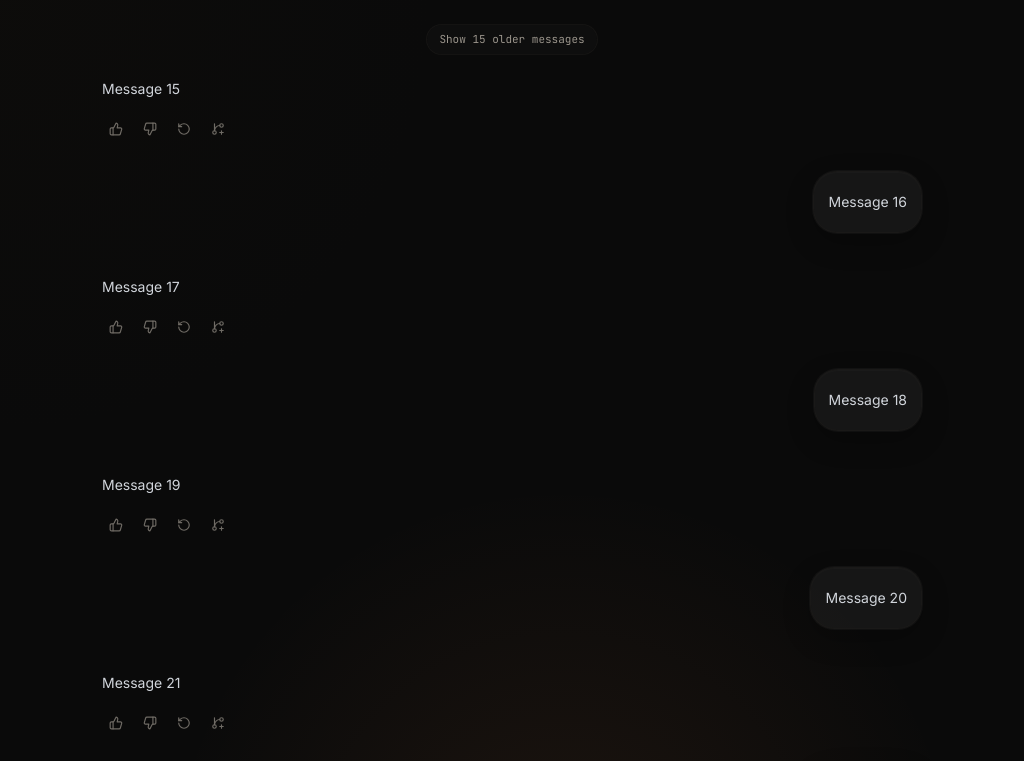
Scenario: MessageFeed scroll behavior › virtualizes long conversations and loads older blocks on demand
The width and height of the screenshot is (1024, 761).
Expected: the text "Message 0" is not shown
Step 1. Click the button "Show 15 older messages" → (512, 39), box [426,24,598,54]
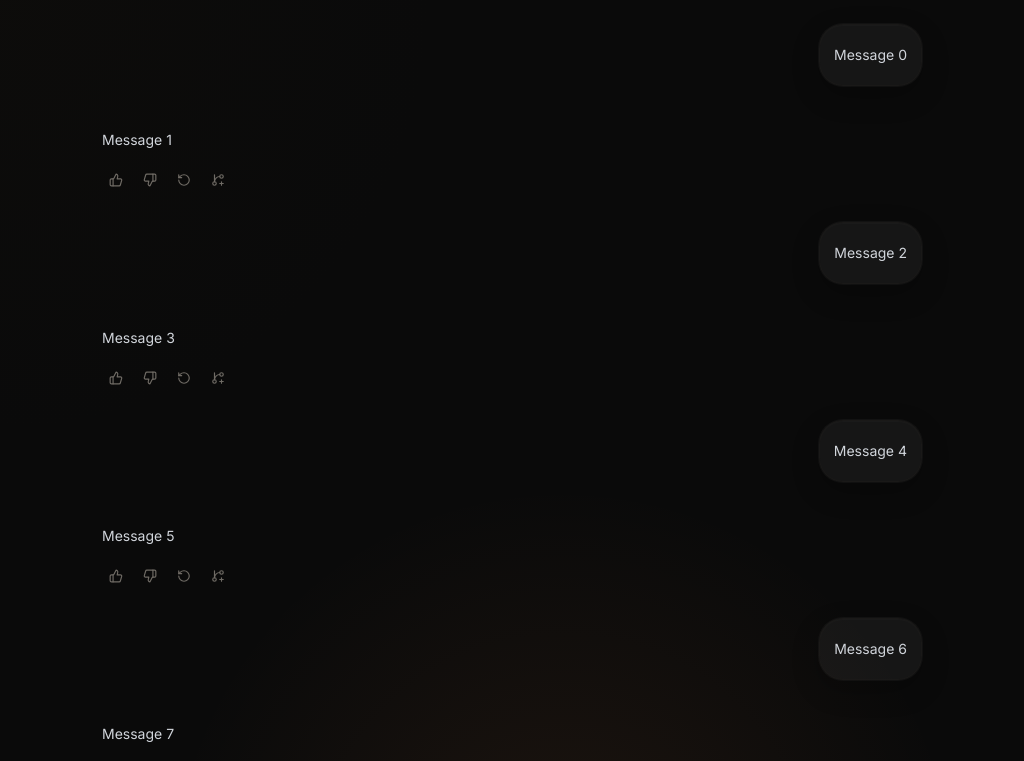
Now the text "Message 0" is shown, box [834,43,907,67]
